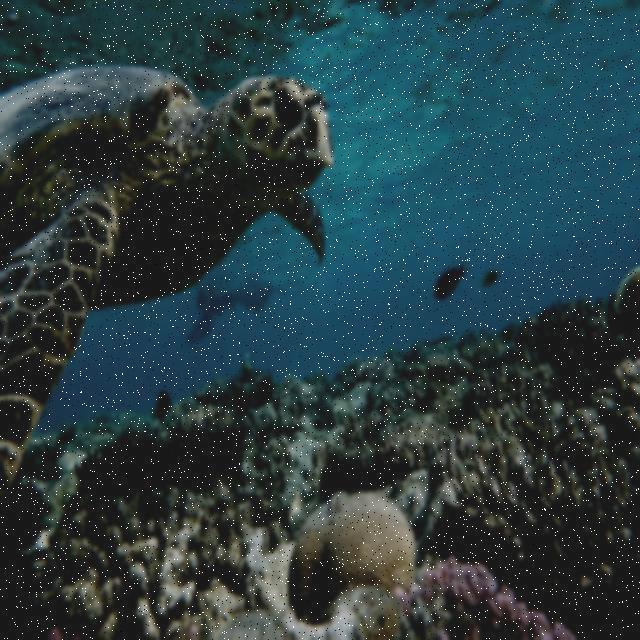tortoise: (0, 64, 366, 472)
